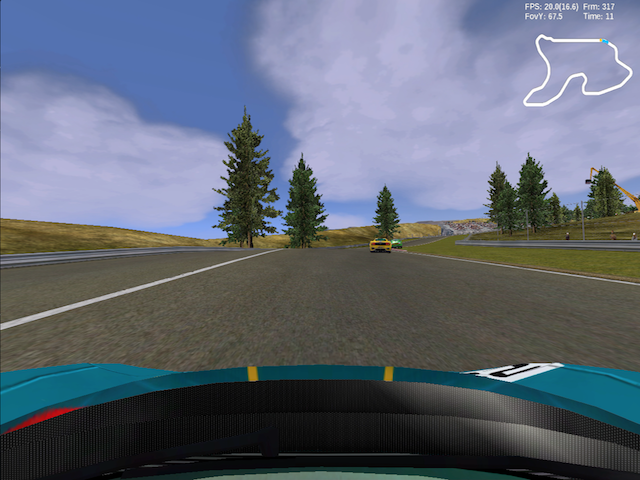Boxer96: (391, 239, 403, 249)
Cavallo360: (369, 238, 393, 253)
